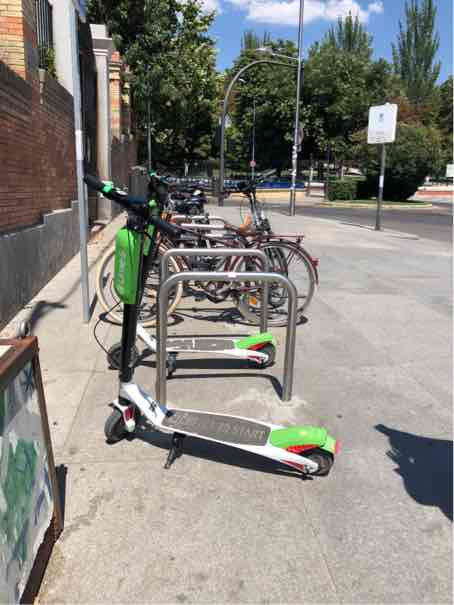scooter: (76, 174, 343, 497)
